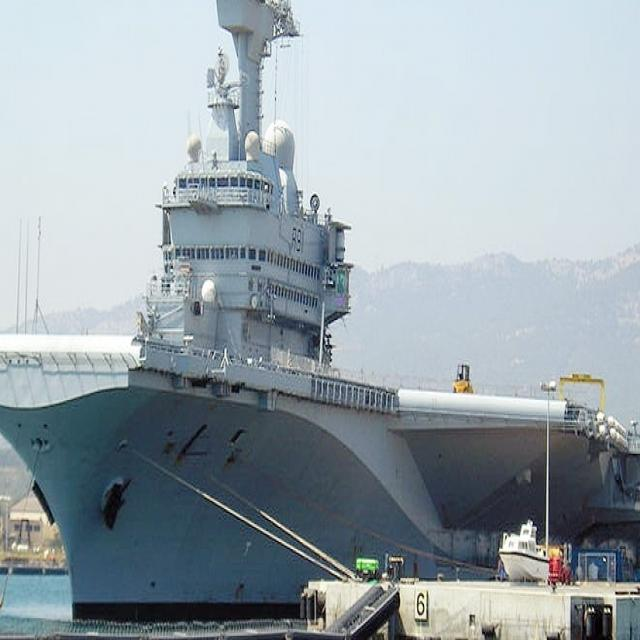Portanaves: (1, 1, 640, 633)
